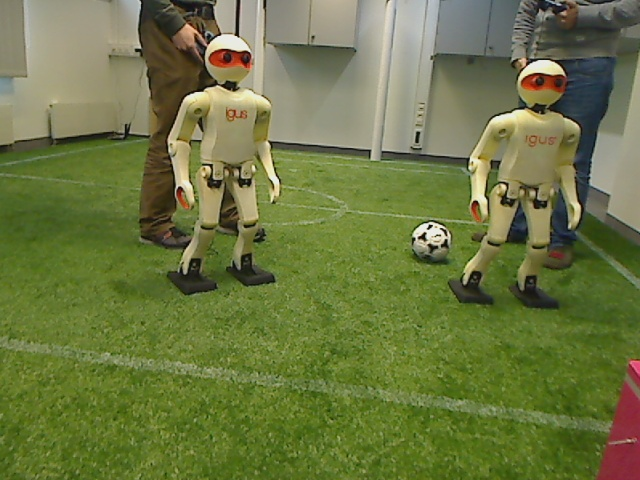ball: (407, 216, 458, 268)
robot: (456, 57, 581, 313), (166, 31, 286, 297)
